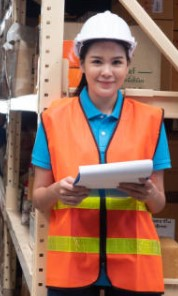worker: (43, 12, 166, 294)
